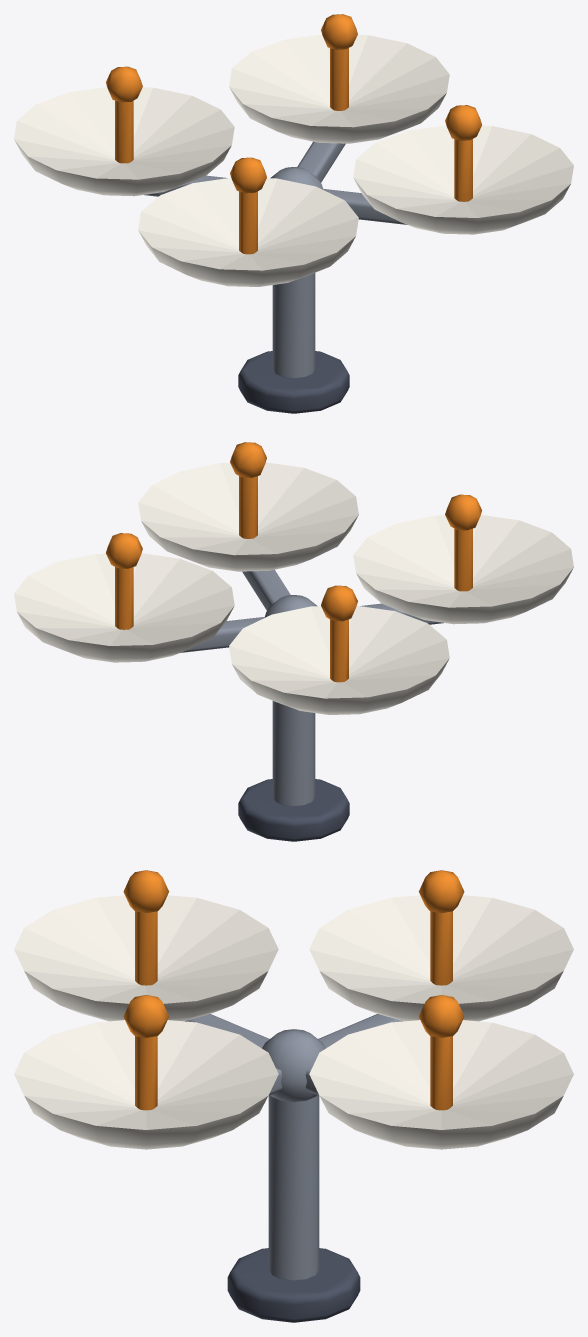
The model's file is Part_HighGainAntenna.glb.
3 renders of one model, top to bottom at view 1: azimuth 30°, elevation 25°; view 2: azimuth 150°, elevation 25°; view 3: azimuth 270°, elevation 25°, orthographic. The views are drawn at different scales.
Parts seen in each view (by area): view 1: Part_HighGainAntenna.Dishes, Part_HighGainAntenna.Feeds, Part_HighGainAntenna.Foot, Part_HighGainAntenna.Post, Part_HighGainAntenna.Arms; view 2: Part_HighGainAntenna.Dishes, Part_HighGainAntenna.Feeds, Part_HighGainAntenna.Foot, Part_HighGainAntenna.Post, Part_HighGainAntenna.Arms; view 3: Part_HighGainAntenna.Dishes, Part_HighGainAntenna.Feeds, Part_HighGainAntenna.Post, Part_HighGainAntenna.Foot, Part_HighGainAntenna.Arms.
Boxes of the visible parts, x1,y1,x2,y2 form: Part_HighGainAntenna.Dishes: (14,34,573,286); Part_HighGainAntenna.Feeds: (106,14,481,254); Part_HighGainAntenna.Foot: (238,351,349,413); Part_HighGainAntenna.Post: (272,273,315,378); Part_HighGainAntenna.Arms: (144,141,407,224); Part_HighGainAntenna.Dishes: (14,462,573,714); Part_HighGainAntenna.Feeds: (106,442,481,682); Part_HighGainAntenna.Foot: (238,779,349,841); Part_HighGainAntenna.Post: (272,701,315,806); Part_HighGainAntenna.Arms: (180,569,443,652); Part_HighGainAntenna.Dishes: (14,895,573,1149); Part_HighGainAntenna.Feeds: (123,870,464,1110); Part_HighGainAntenna.Post: (268,1095,319,1280); Part_HighGainAntenna.Foot: (227,1248,360,1322); Part_HighGainAntenna.Arms: (185,1014,402,1101).
Size of the model in its own units: 1.1 by 0.79 by 1.1.
1 material, 1 textured.
